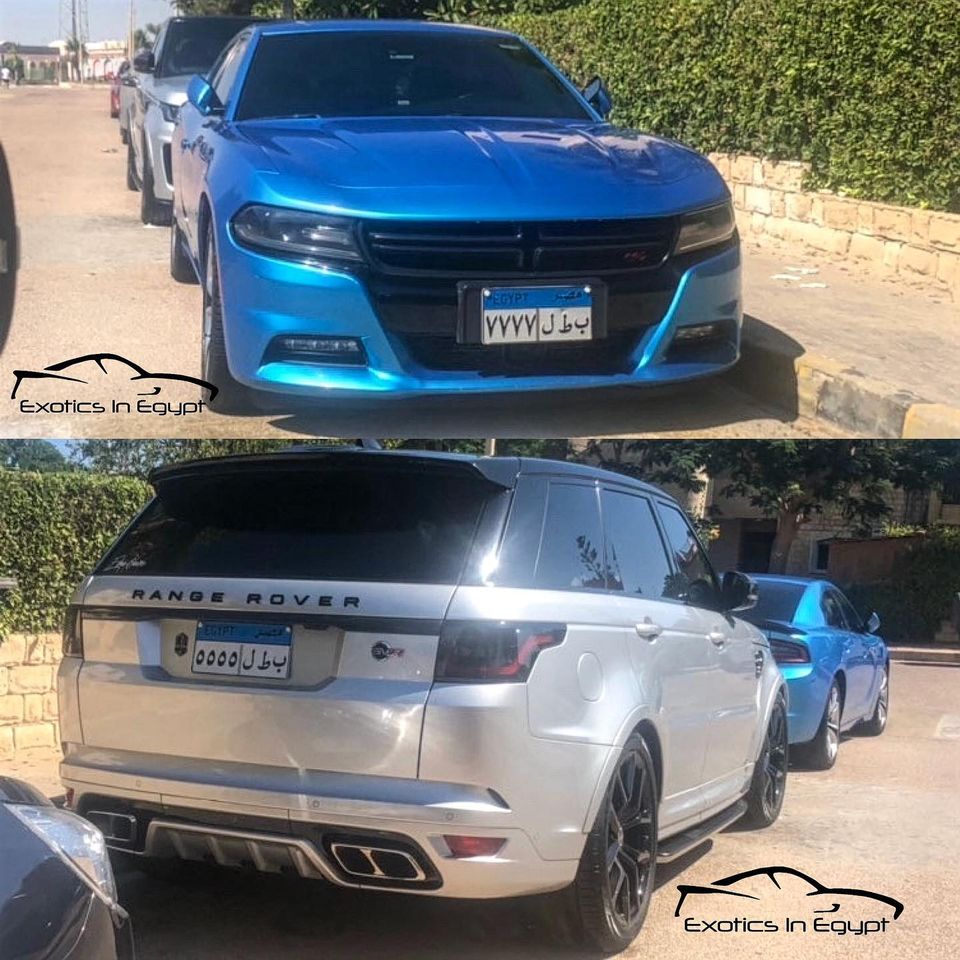carpl: (480, 290, 598, 343), (183, 631, 291, 678)
